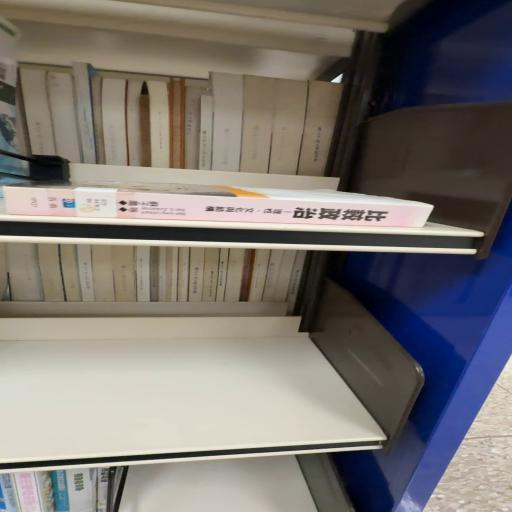flat: (5, 182, 434, 228)
